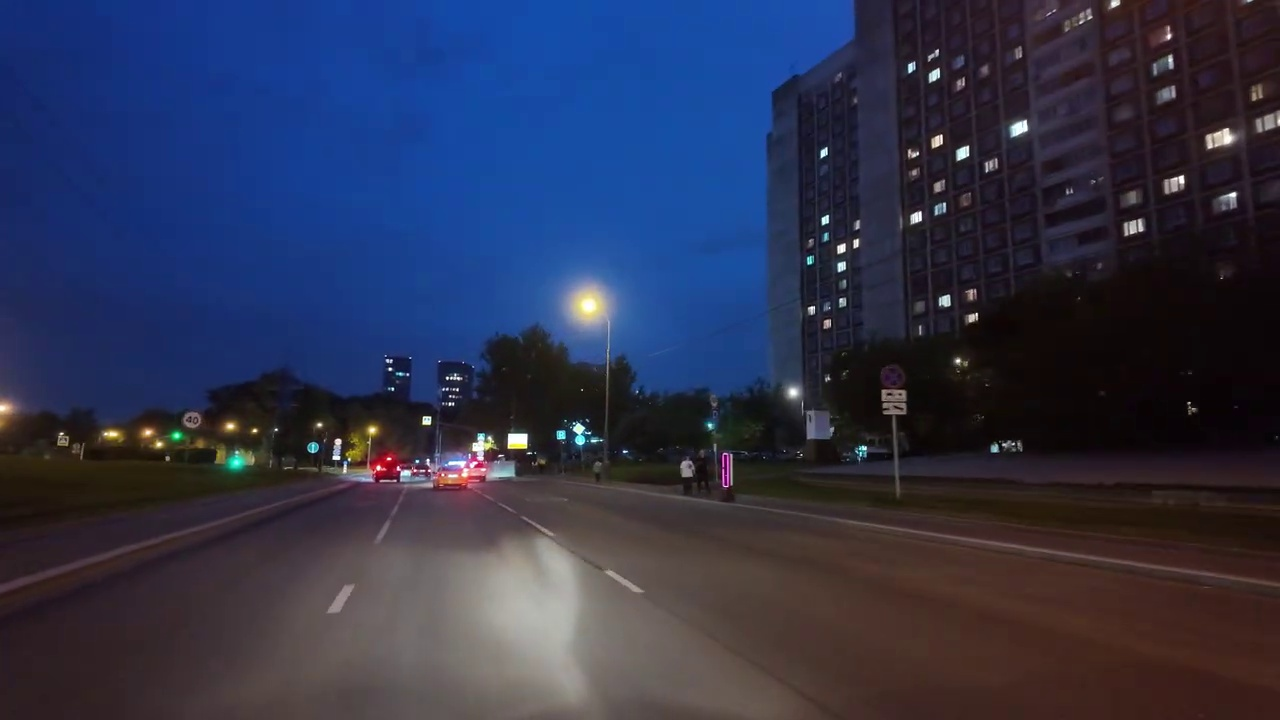acesa: (572, 288, 605, 323), (0, 398, 11, 432)
